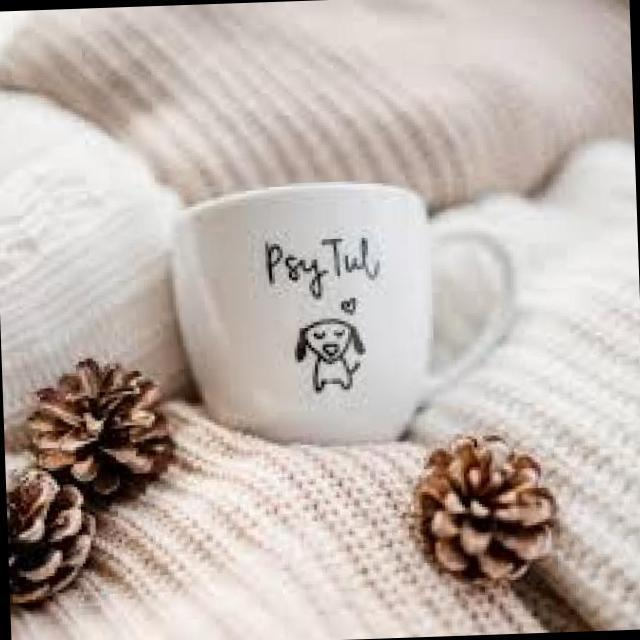taza: (169, 174, 522, 448)
